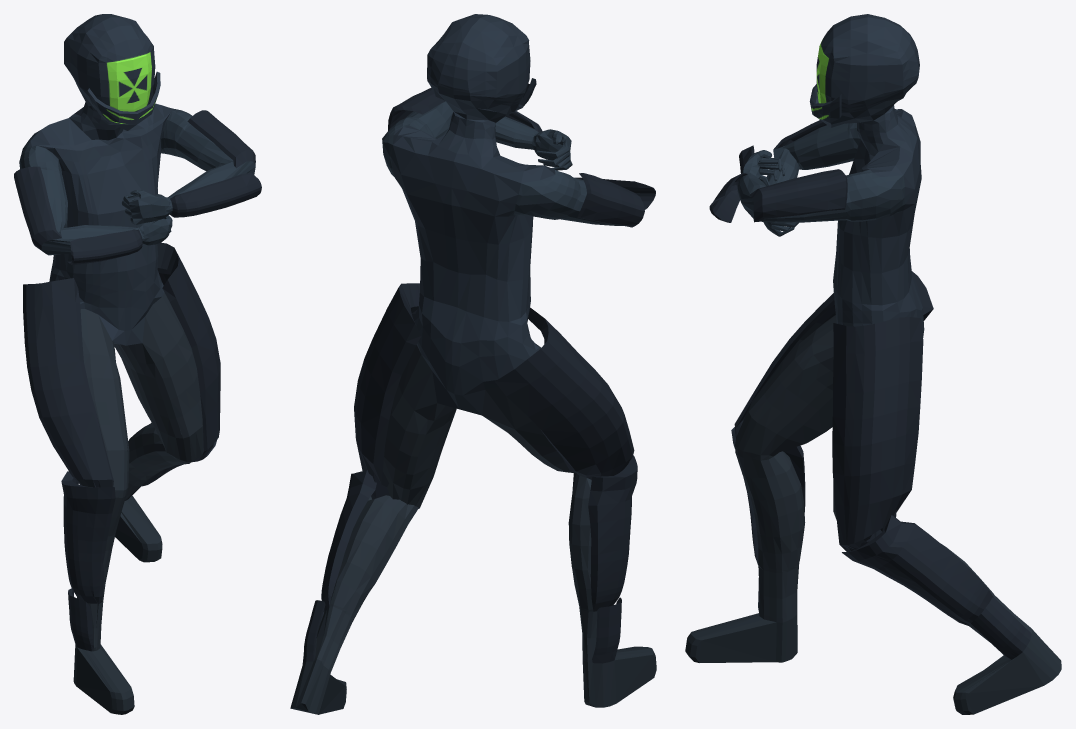
File: Bastion_WF_000005.obj
The picture shows the model from 3 angles, left to right: view 1: azimuth 30°, elevation 25°; view 2: azimuth 150°, elevation 25°; view 3: azimuth 270°, elevation 25°; orthographic projection. The views are drawn at different scales.
Parts seen in each view (by area): view 1: Cube.002; view 2: Cube.002; view 3: Cube.002.
Boxes of the visible parts, x1=… form: Cube.002: x1=14, y1=14, x2=261, y2=714; Cube.002: x1=290, y1=14, x2=656, y2=714; Cube.002: x1=685, y1=14, x2=1061, y2=714.
Bounding box in the file's own units: 1.37 × 3.66 × 1.85.
